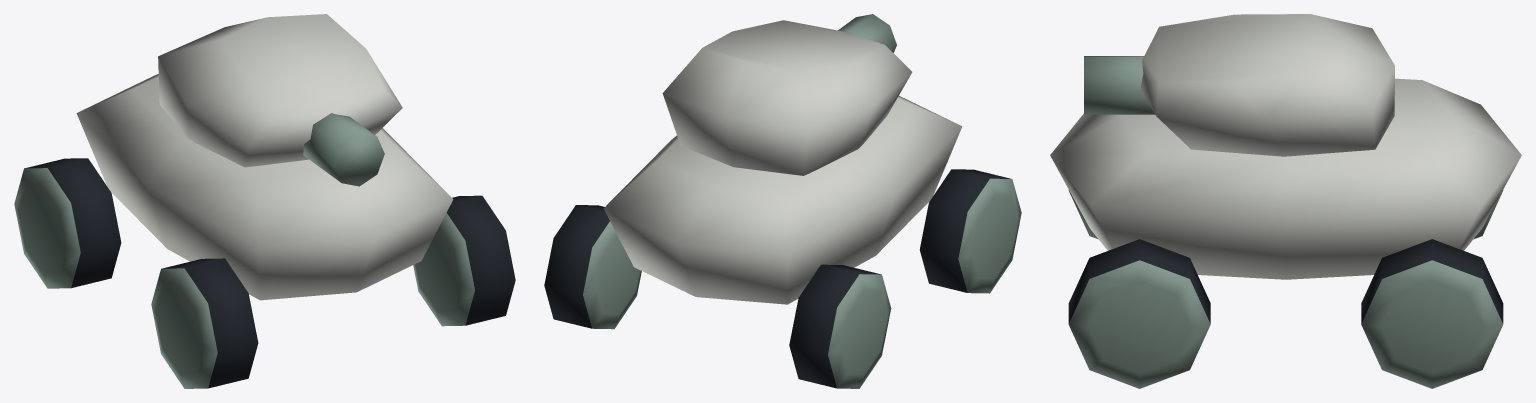
File: TOY_GHOST.shadow.glb
The picture shows the model from 3 angles, left to right: view 1: azimuth 30°, elevation 25°; view 2: azimuth 150°, elevation 25°; view 3: azimuth 270°, elevation 25°; orthographic projection. The views are drawn at different scales.
Parts seen in each view (by area): view 1: Body, TurretYaw, WheelsFront, WheelsRear, BarrelRecoil; view 2: Body, TurretYaw, WheelsRear, WheelsFront, BarrelRecoil; view 3: Body, TurretYaw, WheelsFront, WheelsRear, BarrelRecoil.
Boxes of the visible parts, x1,y1,x2,y2 form: Body: (76, 74, 453, 300); TurretYaw: (158, 14, 402, 167); WheelsFront: (151, 195, 515, 388); WheelsRear: (14, 158, 121, 288); BarrelRecoil: (303, 113, 384, 186); Body: (603, 96, 962, 304); TurretYaw: (662, 20, 912, 175); WheelsRear: (544, 205, 891, 388); WheelsFront: (919, 169, 1021, 293); BarrelRecoil: (838, 14, 896, 52); Body: (1050, 78, 1521, 279); TurretYaw: (1140, 14, 1394, 156); WheelsFront: (1068, 190, 1210, 388); WheelsRear: (1361, 190, 1503, 388); BarrelRecoil: (1084, 56, 1154, 114).
Size of the model in its own units: 0.668 by 0.5516 by 0.83.
